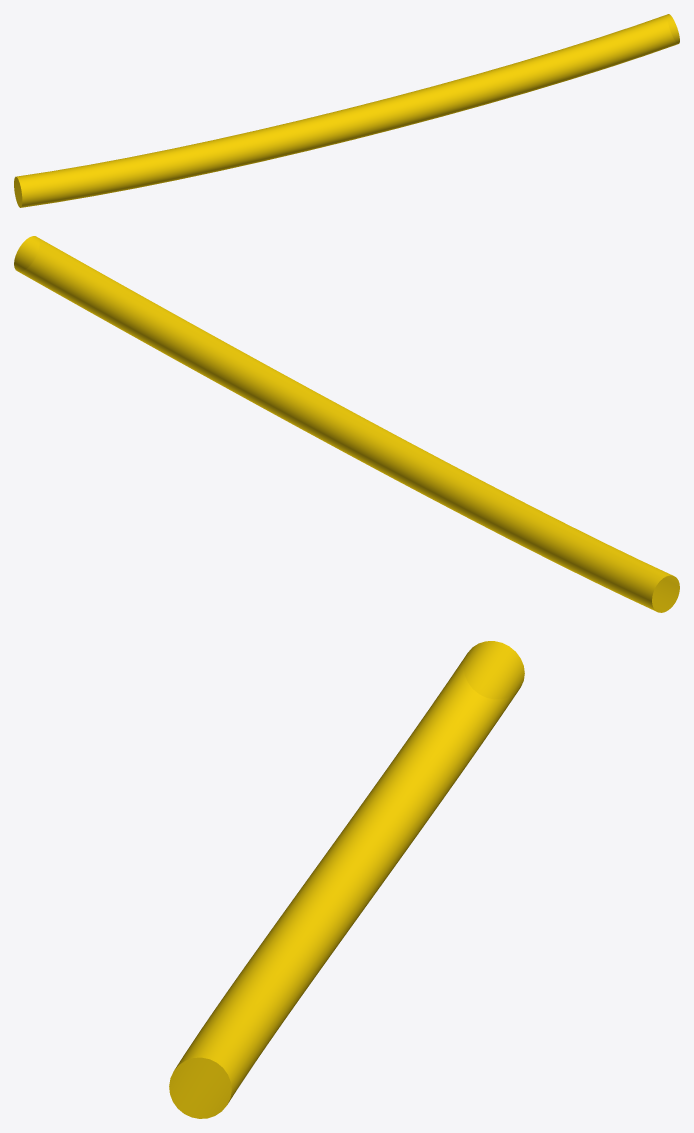
The model's file is Event_421278790_track_41.fbx.
3 renders of one model, top to bottom at view 1: azimuth 30°, elevation 25°; view 2: azimuth 150°, elevation 25°; view 3: azimuth 270°, elevation 25°, orthographic. The views are drawn at different scales.
Visible parts, largest first — view 1: Model; view 2: Model; view 3: Model.
Boxes of the visible parts, box(x1,y1,x2,y2) form: Model: box(14, 14, 679, 207); Model: box(14, 236, 679, 612); Model: box(169, 641, 524, 1118).
Bounding box in the file's own units: 0.8577 × 0.1441 × 0.2244.
